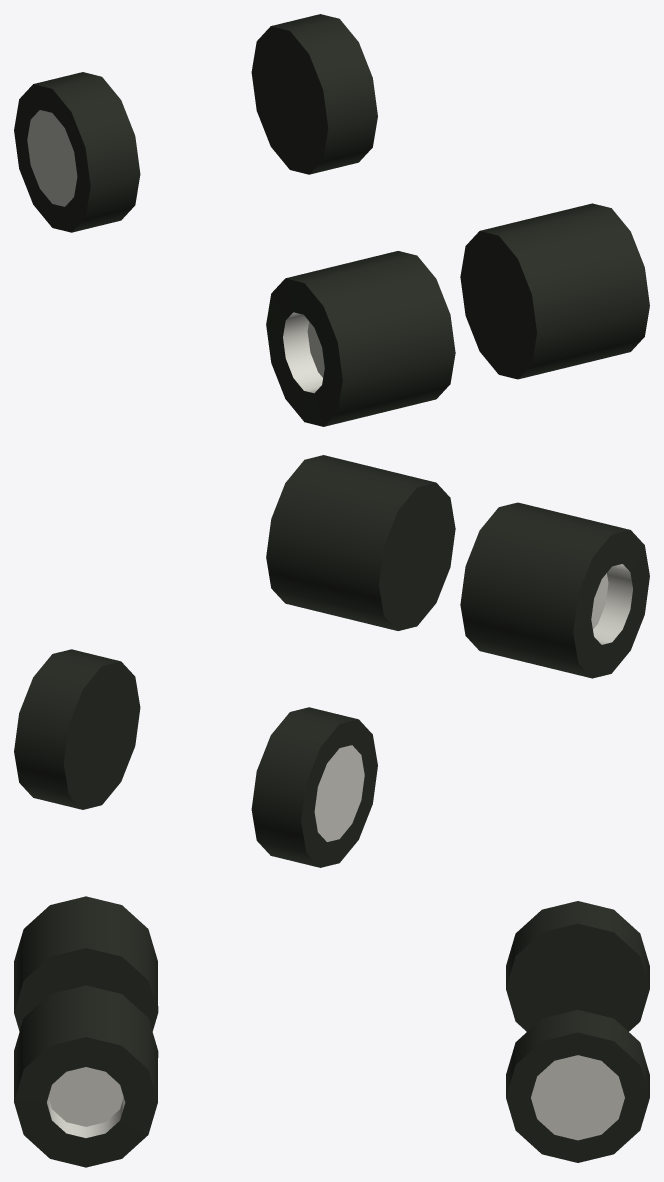
The model's file is teamtruck_wheels.fbx.
The picture shows the model from 3 angles, top to bottom: view 1: azimuth 30°, elevation 25°; view 2: azimuth 150°, elevation 25°; view 3: azimuth 270°, elevation 25°; orthographic projection. The views are drawn at different scales.
Parts seen in each view (by area): view 1: teamtruck_wheels; view 2: teamtruck_wheels; view 3: teamtruck_wheels.
Part boxes in pixels (x1,y1,x2,y2): teamtruck_wheels: (14,14,649,426); teamtruck_wheels: (14,455,649,867); teamtruck_wheels: (14,896,649,1167).
Size of the model in its own units: 213 by 406 by 91.91.
